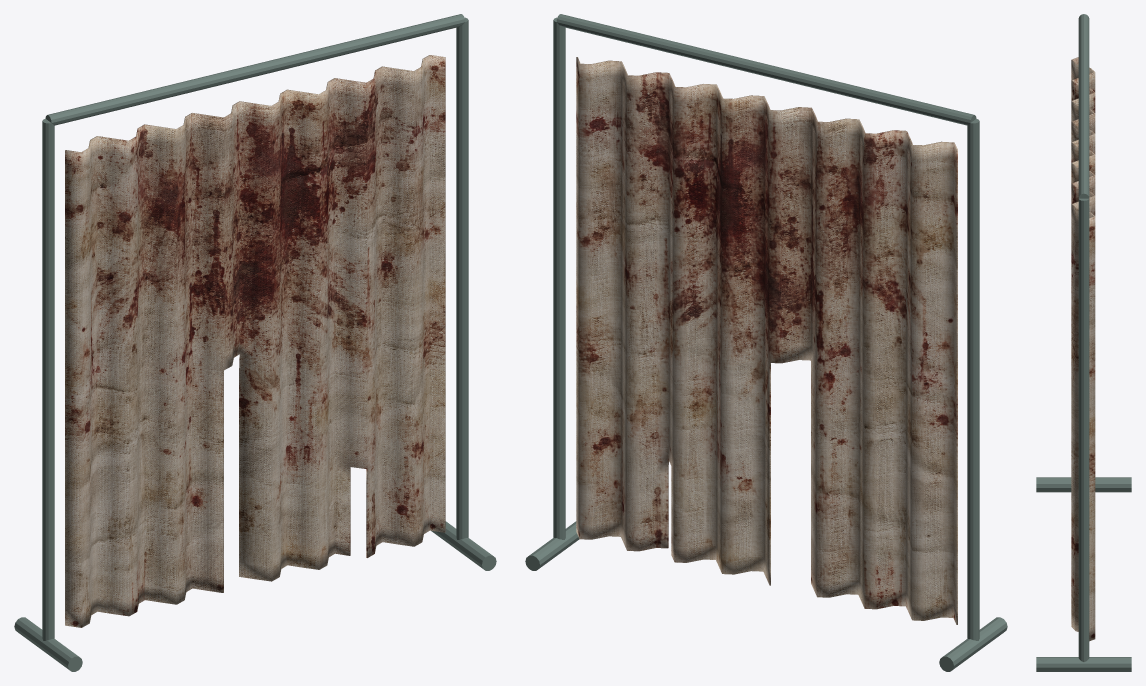
File: hospital_curtain.glb
The picture shows the model from 3 angles, left to right: view 1: azimuth 30°, elevation 25°; view 2: azimuth 150°, elevation 25°; view 3: azimuth 270°, elevation 25°; orthographic projection. The views are drawn at different scales.
Parts seen in each view (by area): view 1: hospital_curtain; view 2: hospital_curtain; view 3: hospital_curtain.
Part boxes in pixels (box(x1,y1,x2,y2)): hospital_curtain: box(14, 14, 496, 671); hospital_curtain: box(525, 14, 1007, 671); hospital_curtain: box(1036, 14, 1131, 671).
Bounding box in the file's own units: 2.03 × 2.43 × 0.44.
Materials: 2 (1 with a texture image).
